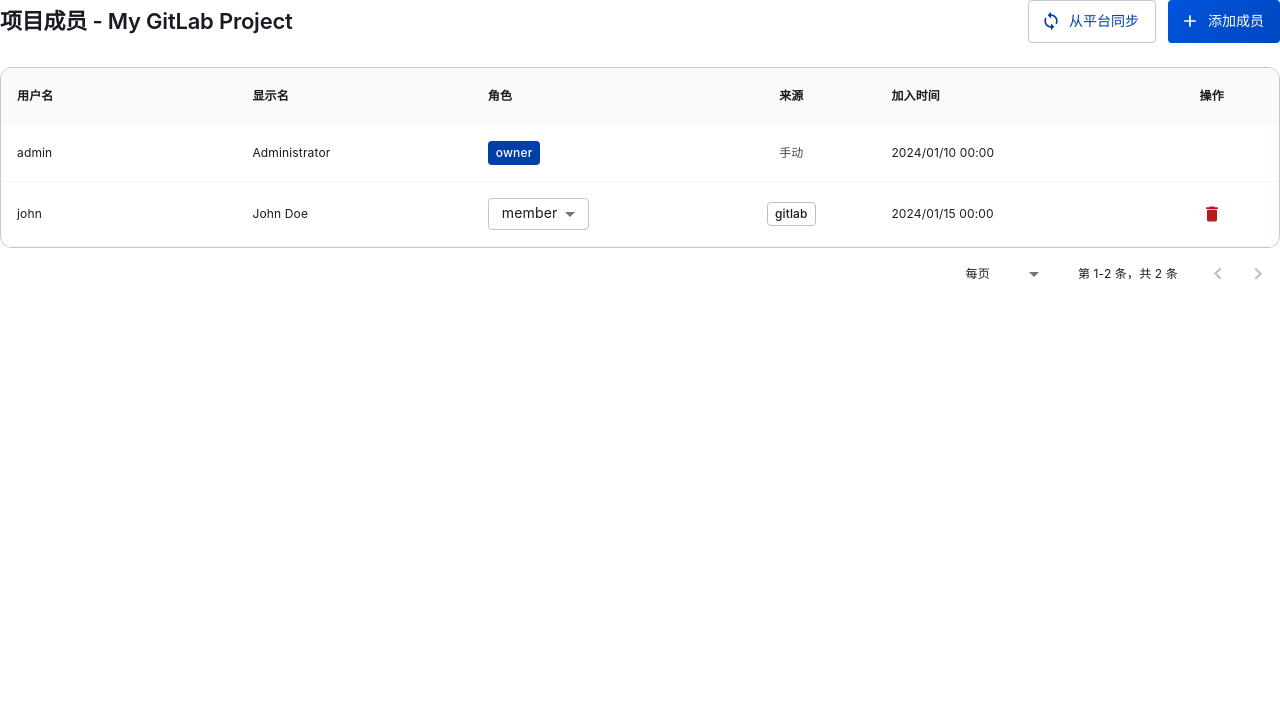
Test: ProjectMembersPage › remove member shows confirmation dialog
The image size is (1280, 720).
expect the text "john" is shown: met, box [1,181,236,246]
# Click remove button for John
Click the button named "移除成员 John Doe" at (1212, 214), box [1197,198,1227,228]
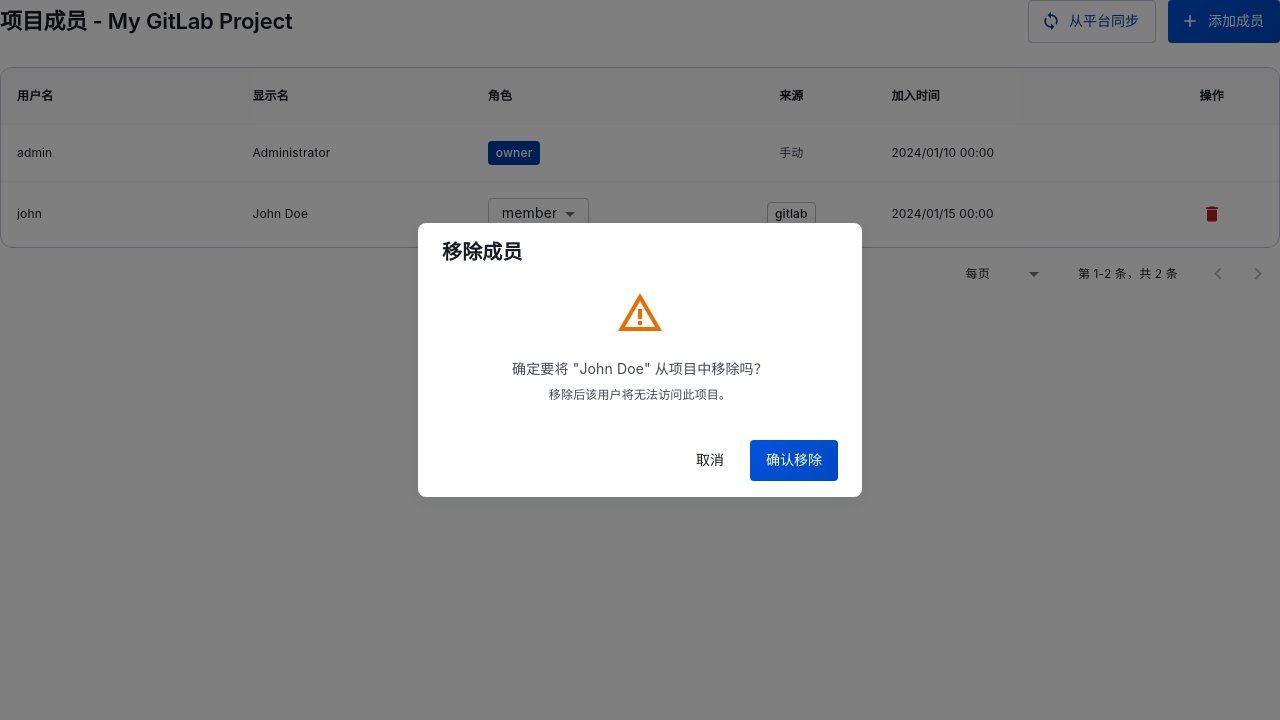
expect the heading "移除成员" is shown: met, box [442,240,523,264]
expect the button "确认移除" is shown: met, box [750,440,838,481]
